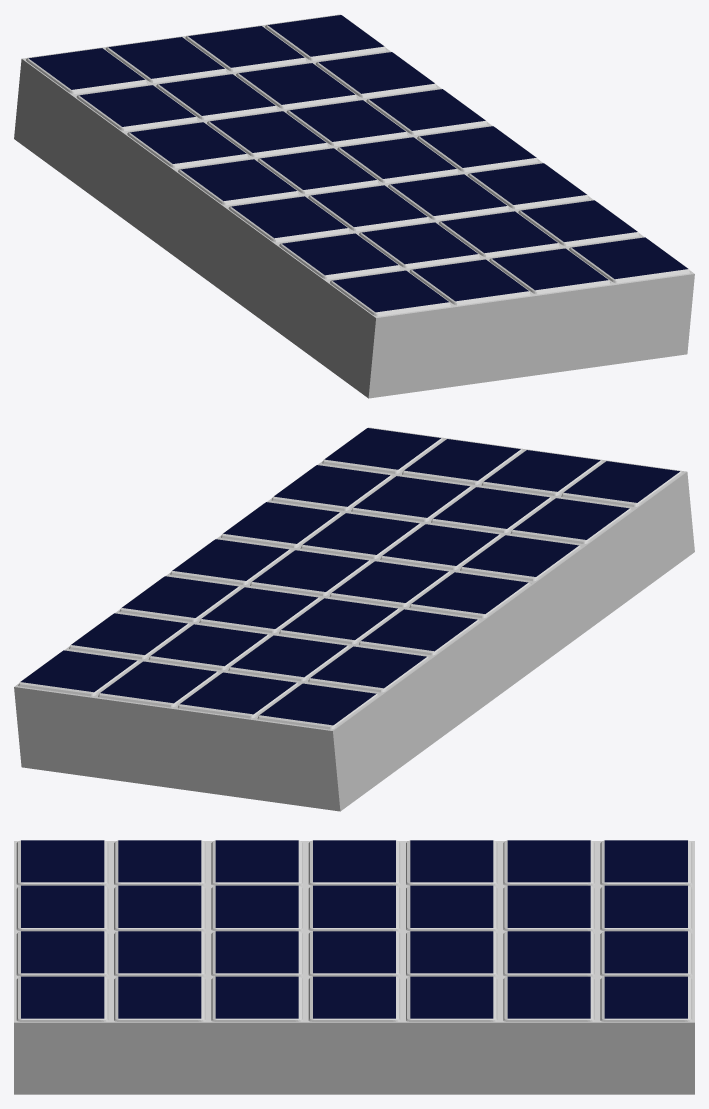
Rendered from boardfbx.fbx.
3 views of the same model, one above another, from view 1: azimuth 30°, elevation 25°; view 2: azimuth 150°, elevation 25°; view 3: azimuth 270°, elevation 25° (orthographic). The views are drawn at different scales.
Visible parts, largest first — view 1: SON BOARD; view 2: SON BOARD; view 3: SON BOARD.
Boxes of the visible parts, x1=… form: SON BOARD: x1=14, y1=14, x2=694, y2=398; SON BOARD: x1=14, y1=427, x2=694, y2=811; SON BOARD: x1=14, y1=840, x2=694, y2=1094.
Size of the model in its own units: 2065 by 692 by 3885.
